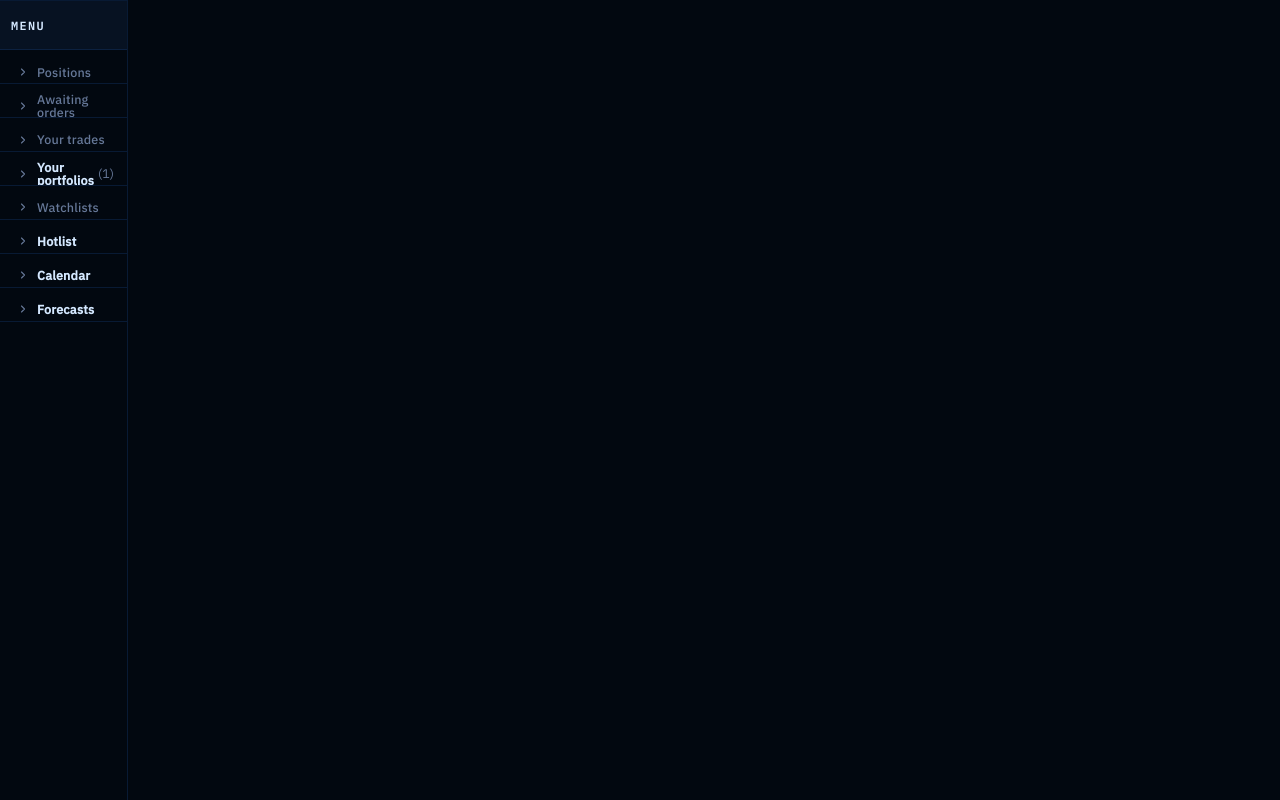
Scenario: FloorLists › shows an in-position holding as a stage, not as a second copy of the direction
The width and height of the screenshot is (1280, 800).
Click the button "Your portfolios (1)": coordinates (68, 174) [5,157,132,190]
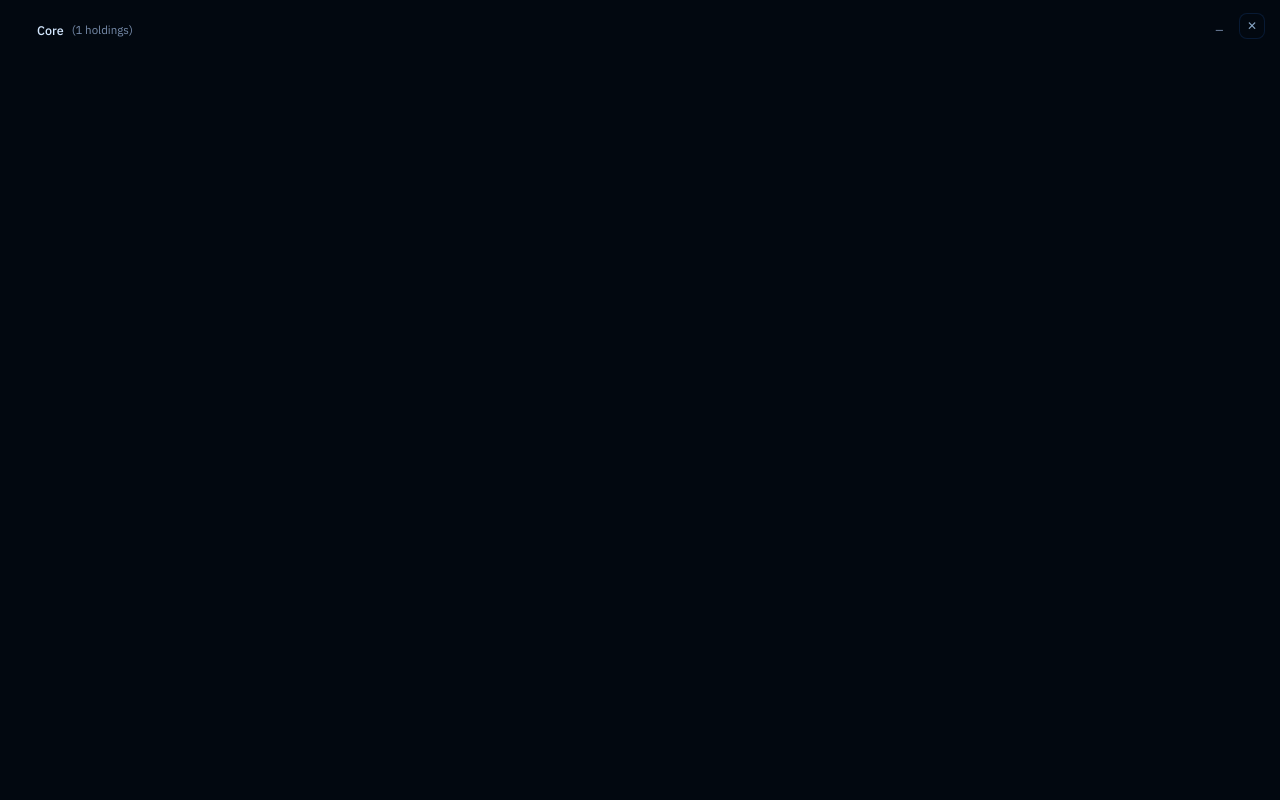
Click the button "Core (1 holdings) —": coordinates (108, 29) [25,15,1241,45]
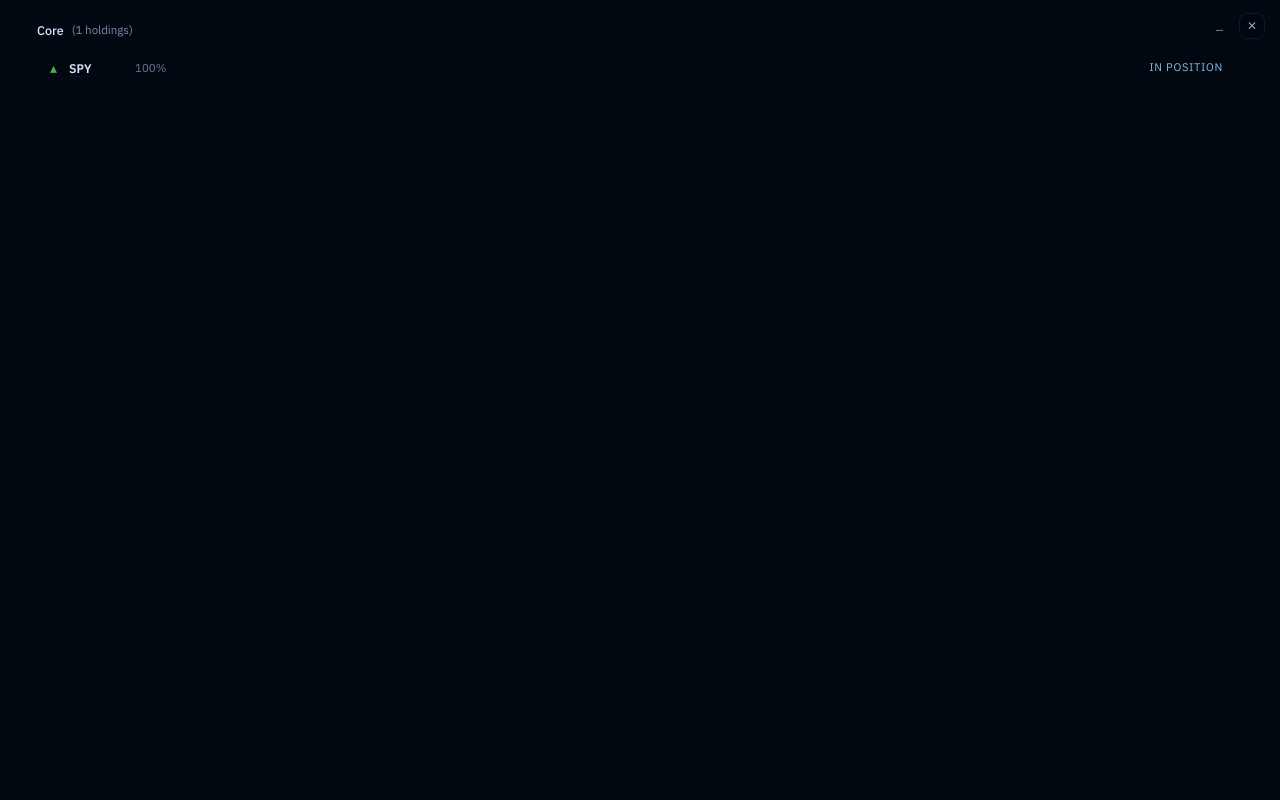
Now the text "in position" is shown, box [1149,59,1223,77]
